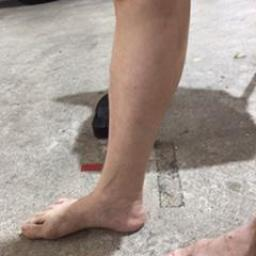Medial View -Right Foot-: (15, 161, 155, 243)
